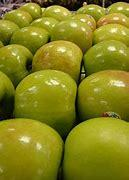apple: (56, 117, 129, 180), (12, 66, 76, 129), (0, 121, 66, 180), (76, 74, 129, 131), (29, 42, 86, 74), (81, 40, 129, 74), (0, 41, 36, 79), (49, 18, 92, 47), (7, 27, 52, 53), (75, 2, 113, 26), (93, 25, 129, 49), (41, 4, 83, 22), (5, 7, 31, 28), (25, 15, 58, 31), (17, 1, 45, 16), (98, 16, 129, 28), (0, 18, 16, 41), (107, 4, 129, 16)
